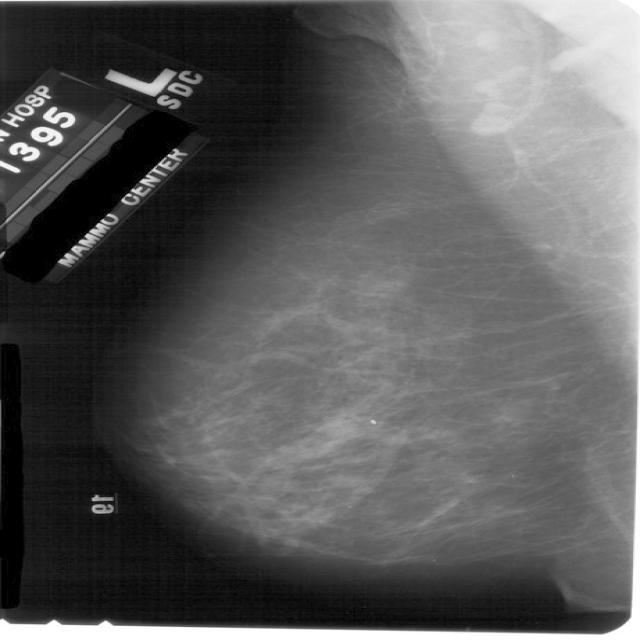tumour: (316, 416, 361, 441)
